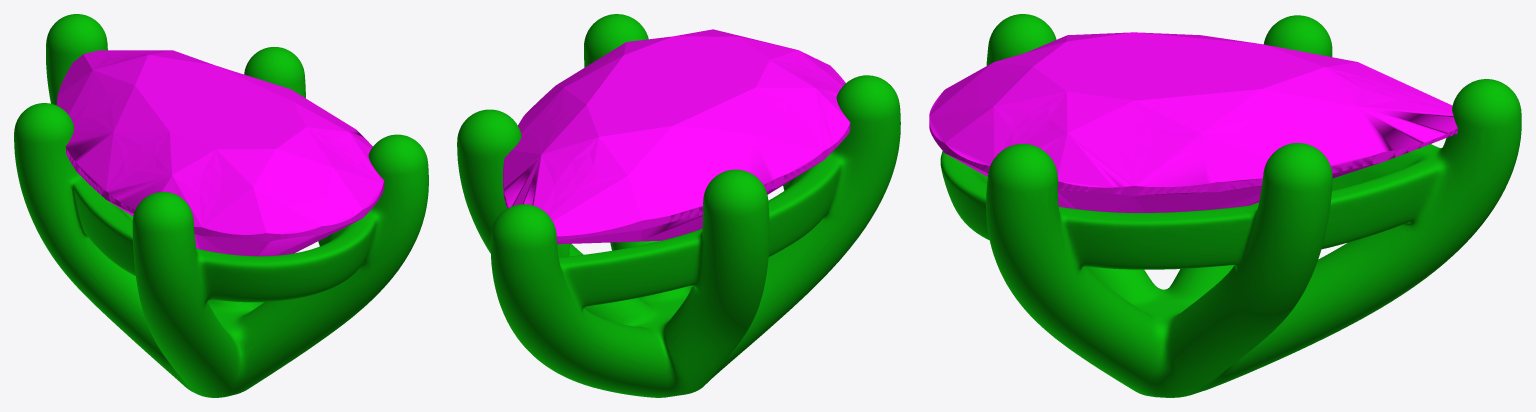
3 views of the same model, side by side, from view 1: azimuth 30°, elevation 25°; view 2: azimuth 150°, elevation 25°; view 3: azimuth 270°, elevation 25° (orthographic). The views are drawn at different scales.
Visible parts, largest first — view 1: Metal01, Diamond_Pear; view 2: Metal01, Diamond_Pear; view 3: Metal01, Diamond_Pear.
Part boxes in pixels (<box>): Metal01: <box>14,14,428,397</box>; Diamond_Pear: <box>56,50,384,256</box>; Metal01: <box>457,14,900,397</box>; Diamond_Pear: <box>503,29,850,244</box>; Metal01: <box>940,14,1521,397</box>; Diamond_Pear: <box>929,32,1457,212</box>.
Bounding box in the file's own units: 5.69 × 5.29 × 8.91.
